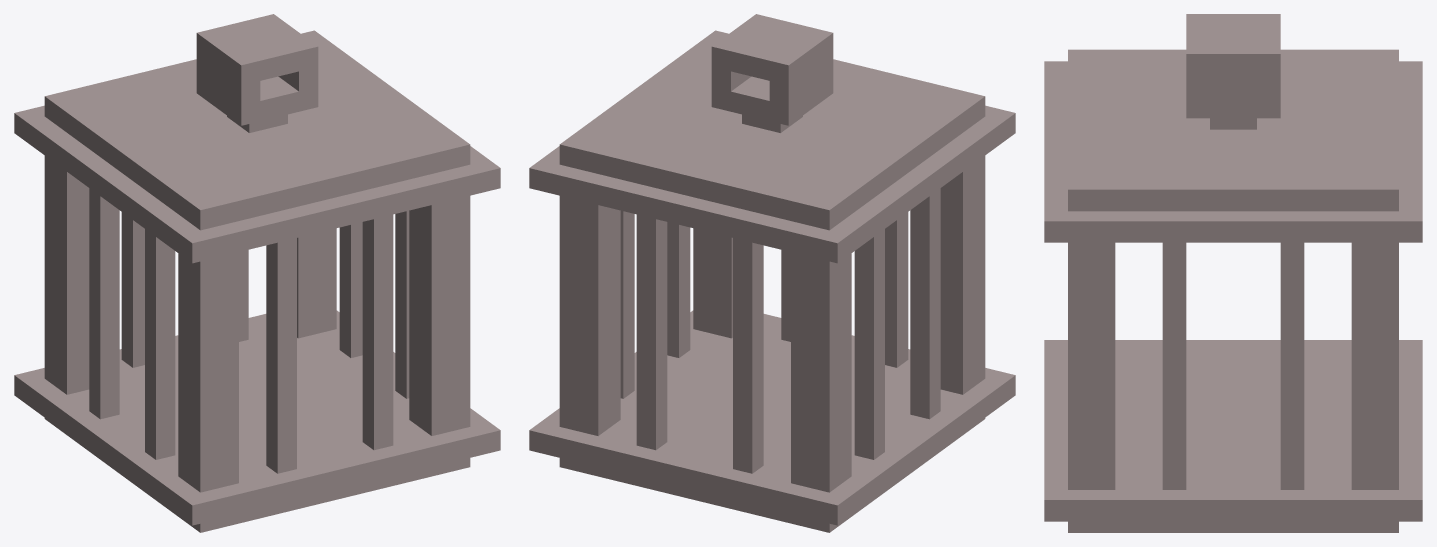
File: cage.obj
The picture shows the model from 3 angles, left to right: view 1: azimuth 30°, elevation 25°; view 2: azimuth 150°, elevation 25°; view 3: azimuth 270°, elevation 25°; orthographic projection. The views are drawn at different scales.
Size of the model in its own units: 1.6 by 2 by 1.6.
Materials: 1 (1 with a texture image).
